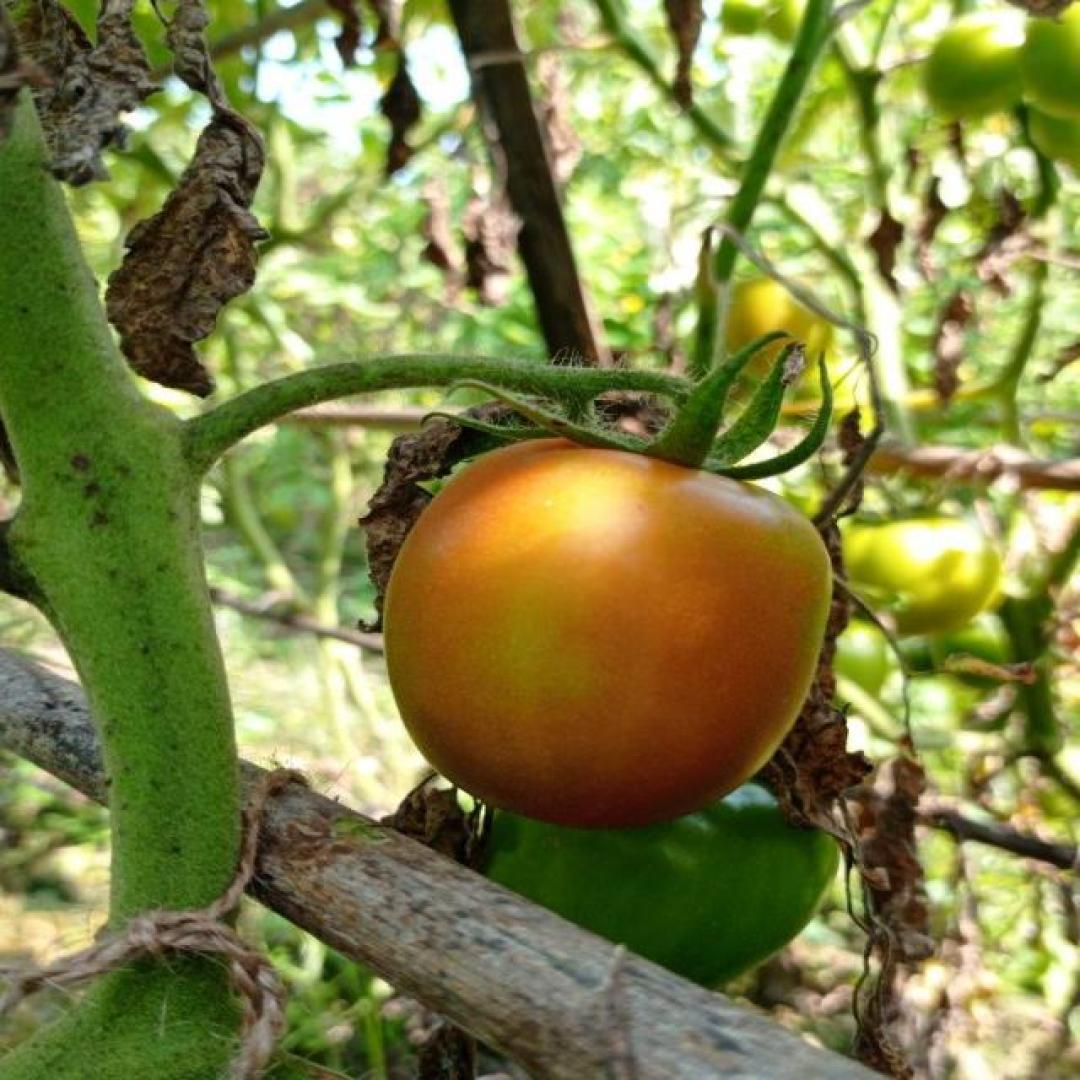setengah_matang: (378, 434, 835, 832)
